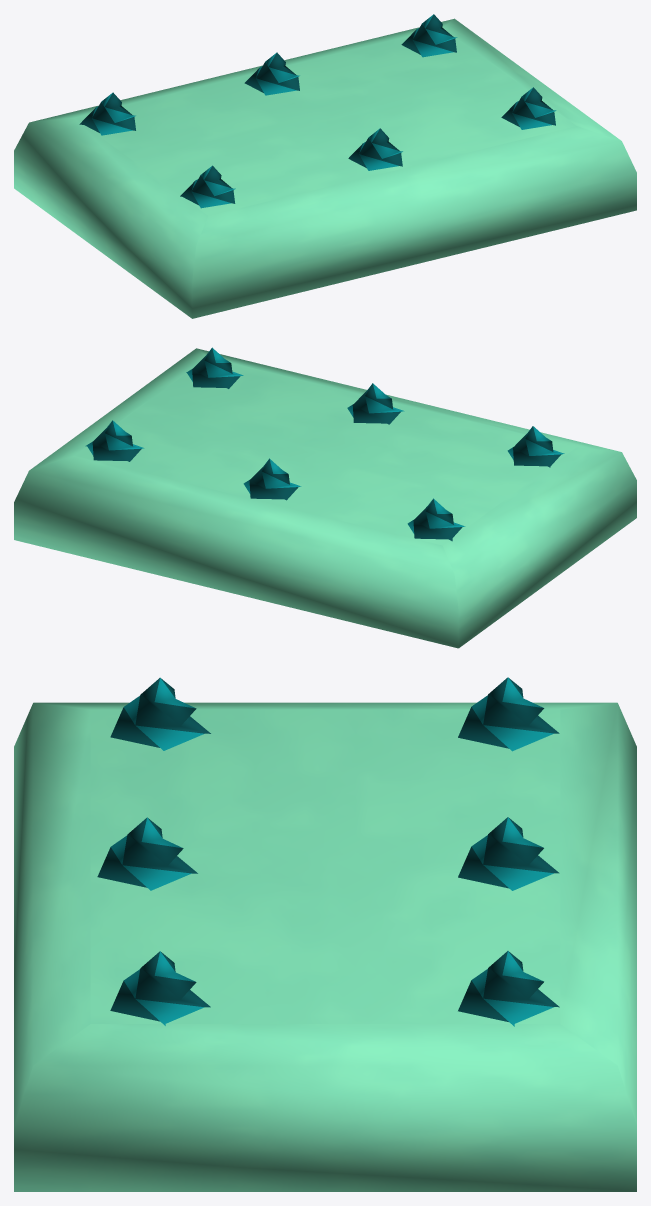
Rendered from Sheet_Cake_A_5.FBX.
3 renders of one model, top to bottom at view 1: azimuth 30°, elevation 25°; view 2: azimuth 150°, elevation 25°; view 3: azimuth 270°, elevation 25°, orthographic. The views are drawn at different scales.
Parts seen in each view (by area): view 1: Sheet Cake; view 2: Sheet Cake; view 3: Sheet Cake.
Boxes of the visible parts, <box> form: Sheet Cake: <box>14,14,636,318</box>; Sheet Cake: <box>14,347,636,648</box>; Sheet Cake: <box>14,677,636,1191</box>.
Bounding box in the file's own units: 180 × 41.76 × 125.
